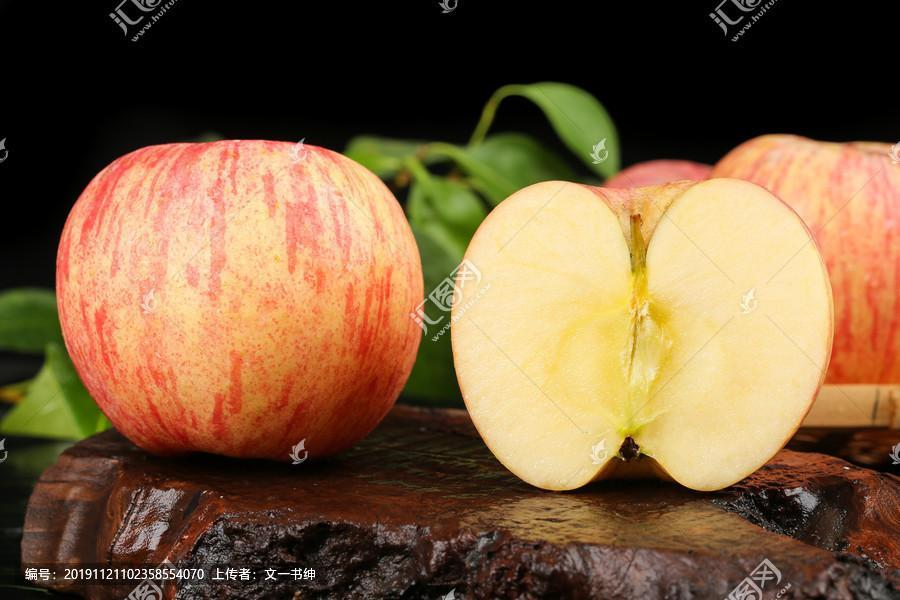apple: (51, 138, 425, 469)
